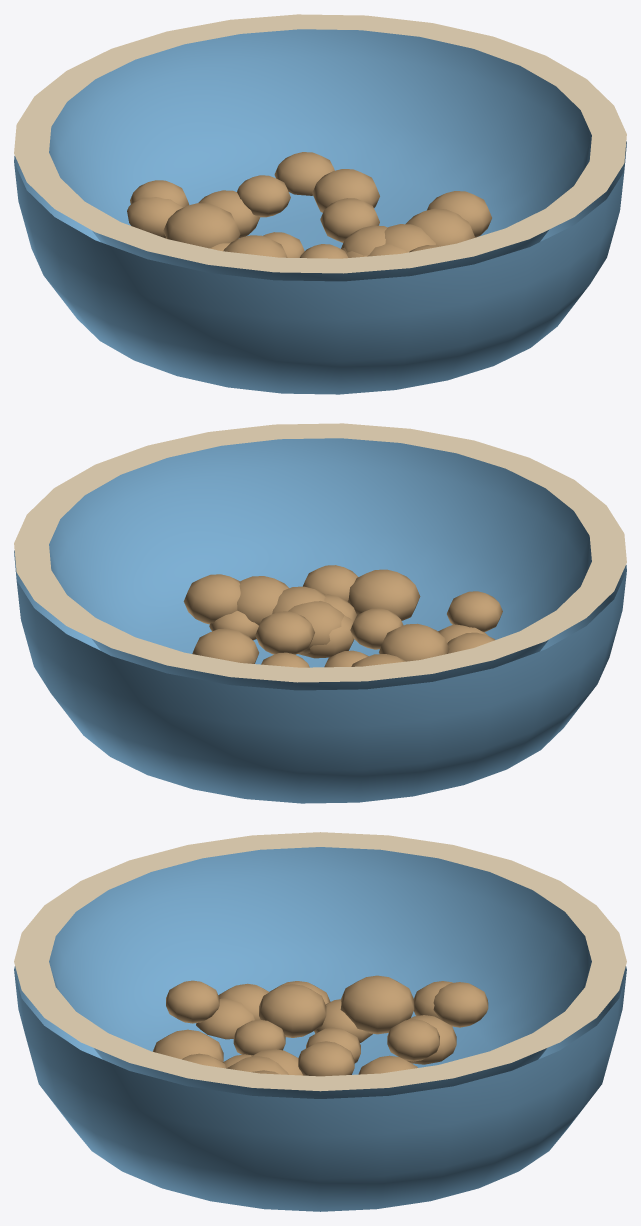
File: bowl.glb
3 renders of one model, top to bottom at view 1: azimuth 30°, elevation 25°; view 2: azimuth 150°, elevation 25°; view 3: azimuth 270°, elevation 25°, orthographic.
Visible parts, largest first — view 1: Bowl; view 2: Bowl; view 3: Bowl.
Part boxes in pixels (<box>): Bowl: <box>14,14,626,394</box>; Bowl: <box>14,423,626,803</box>; Bowl: <box>14,832,626,1211</box>.
Size of the model in its own units: 0.14 by 0.04 by 0.14.
